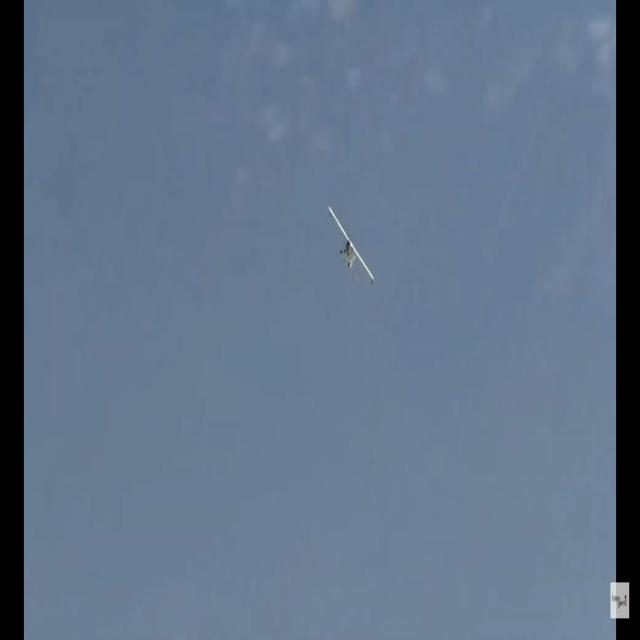iha: (327, 237, 375, 254)
